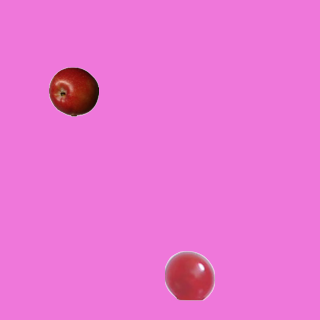Apple Braeburn: (48, 66, 98, 116)
Redcurrant: (164, 250, 214, 300)
